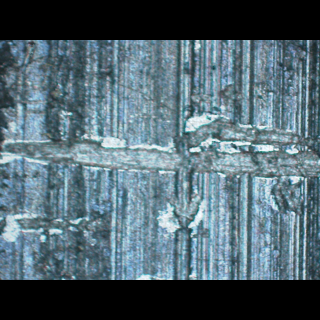d: (0, 111, 320, 182), (155, 192, 215, 244), (0, 215, 105, 241), (265, 176, 306, 218)
